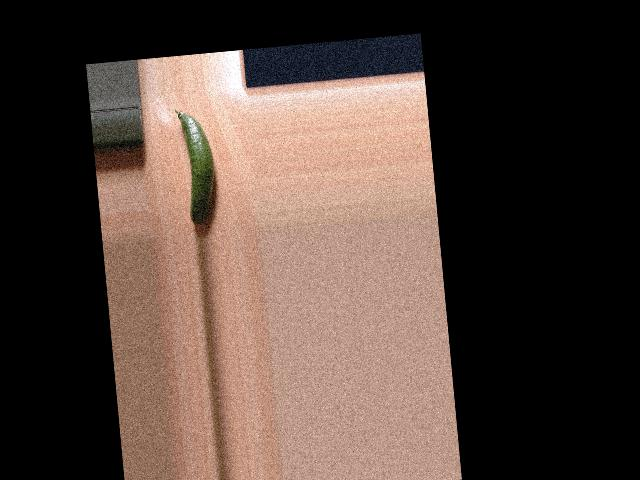cucumber: (174, 105, 220, 227)
